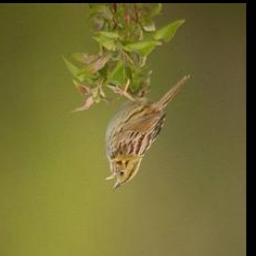Sparrow: (105, 72, 192, 192)
